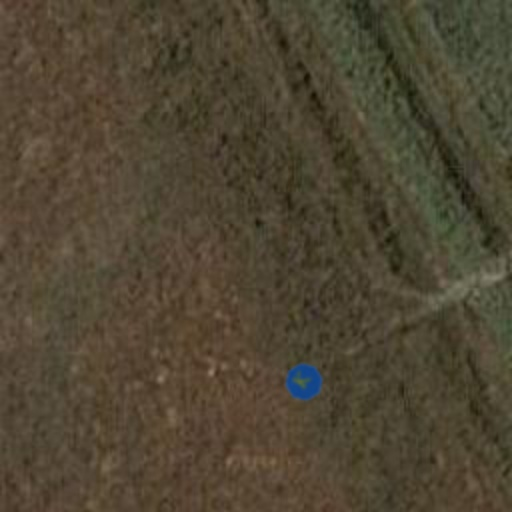octagon: (276, 354, 332, 410)
